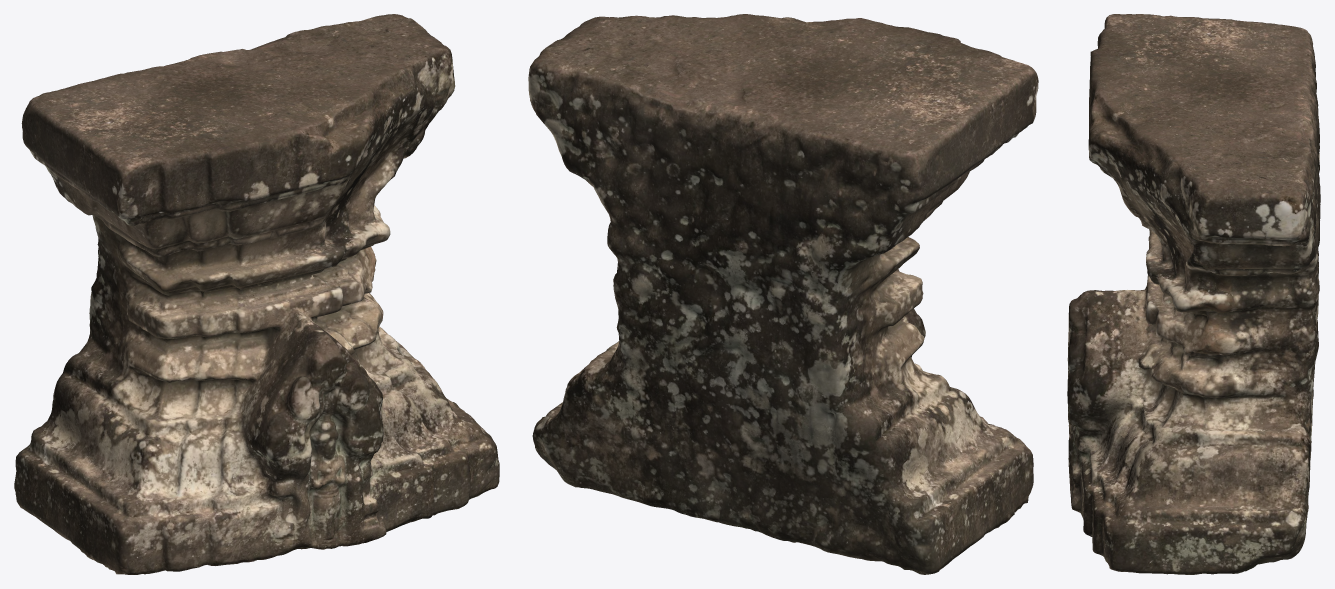
Rendered from 02_MysonSanctuaryD_Vattrangtrichantru_final.glb.
3 views of the same model, side by side, from view 1: azimuth 30°, elevation 25°; view 2: azimuth 150°, elevation 25°; view 3: azimuth 270°, elevation 25° (orthographic). The views are drawn at different scales.
Size of the model in its own units: 1.06 by 1.08 by 0.6371.
1 material, 1 textured.
